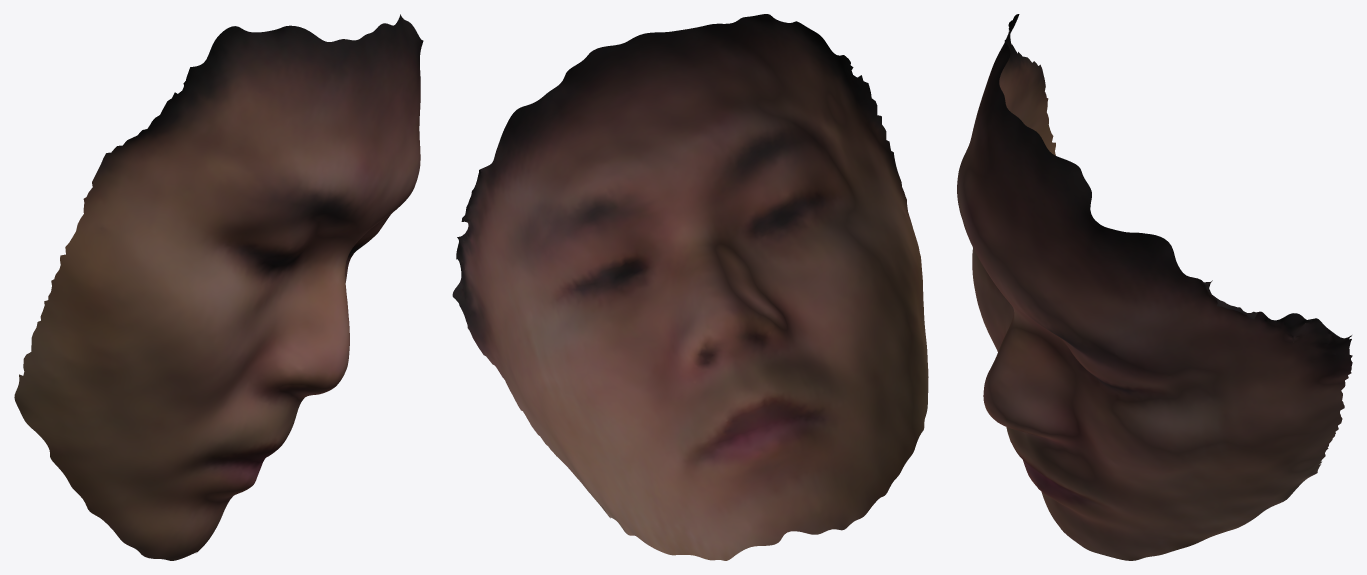
File: phenix2.obj
The picture shows the model from 3 angles, left to right: view 1: azimuth 30°, elevation 25°; view 2: azimuth 150°, elevation 25°; view 3: azimuth 270°, elevation 25°; orthographic projection. The views are drawn at different scales.
Bounding box in the file's own units: 0.8508 × 1.03 × 0.6875.
